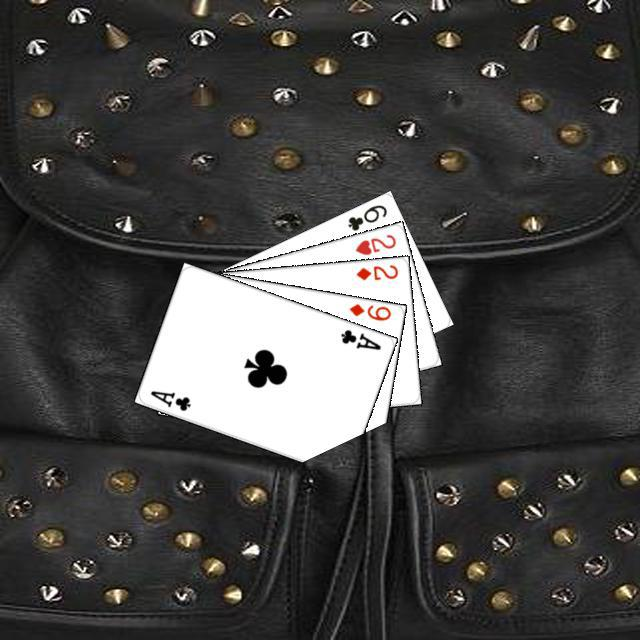2d: (351, 260, 400, 282)
2h: (350, 229, 398, 257)
6c: (343, 200, 389, 233)
9d: (344, 299, 393, 322)
Ac: (335, 324, 383, 352), (145, 385, 192, 413)
